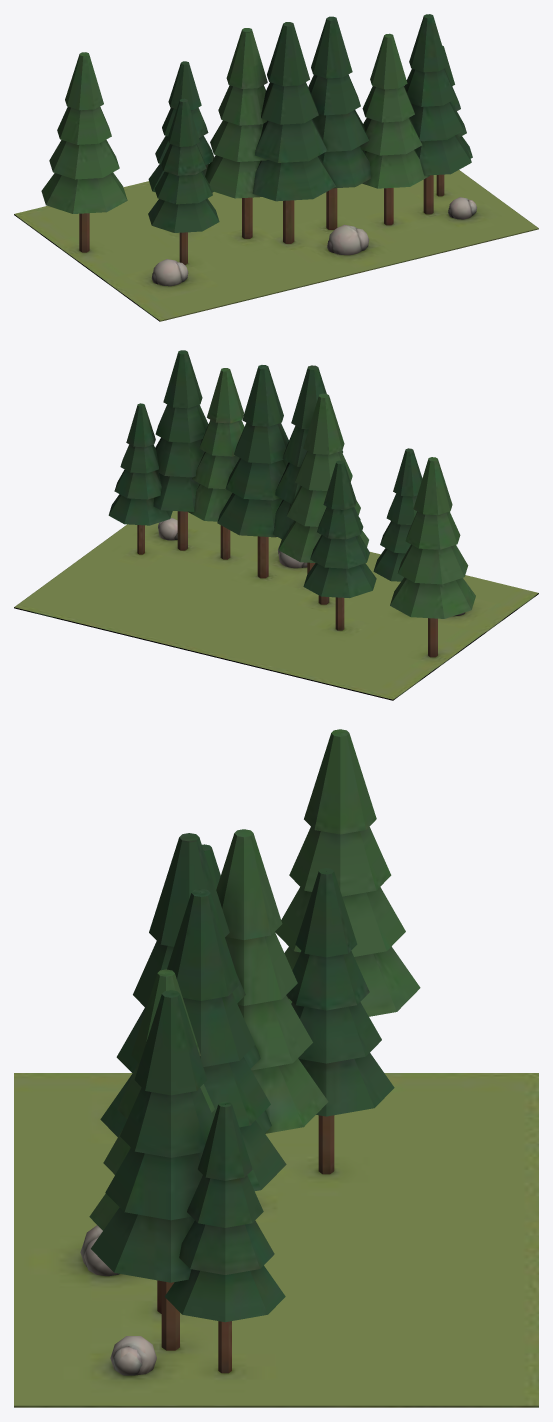
The model's file is pinar.glb.
The picture shows the model from 3 angles, top to bottom: view 1: azimuth 30°, elevation 25°; view 2: azimuth 150°, elevation 25°; view 3: azimuth 270°, elevation 25°; orthographic projection. The views are drawn at different scales.
Parts seen in each view (by area): view 1: pinar; view 2: pinar; view 3: pinar.
Boxes of the visible parts, bbox=[...] form: pinar: bbox=[14, 14, 538, 321]; pinar: bbox=[14, 350, 538, 700]; pinar: bbox=[14, 729, 538, 1407].
Size of the model in its own units: 31.85 by 17.37 by 20.
1 material, 1 textured.
